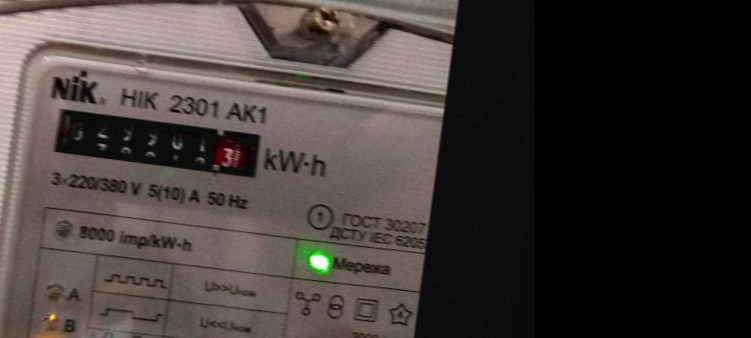0: (168, 124, 185, 151), (68, 118, 86, 141)
1: (193, 128, 209, 153)
2: (93, 118, 112, 139)
3: (219, 143, 234, 166)
9: (144, 123, 160, 146), (119, 120, 134, 143)
screen: (39, 95, 272, 188)
